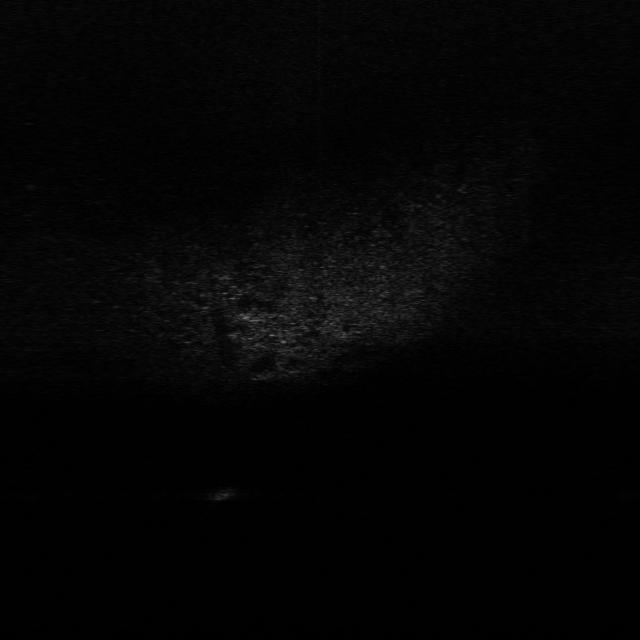cylinder: (202, 482, 246, 500)
